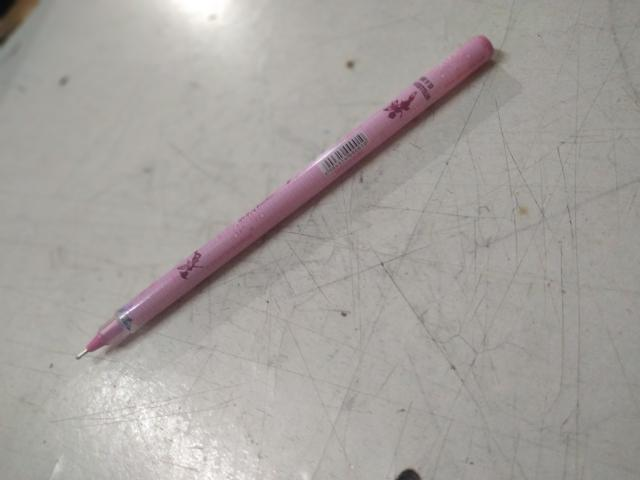PEN: (11, 10, 517, 370)
